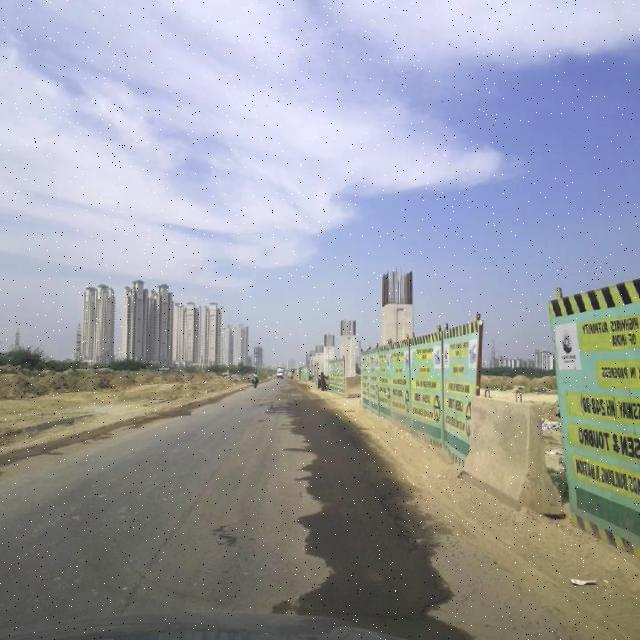D00: (125, 443, 234, 609)
D40: (370, 489, 596, 622)
